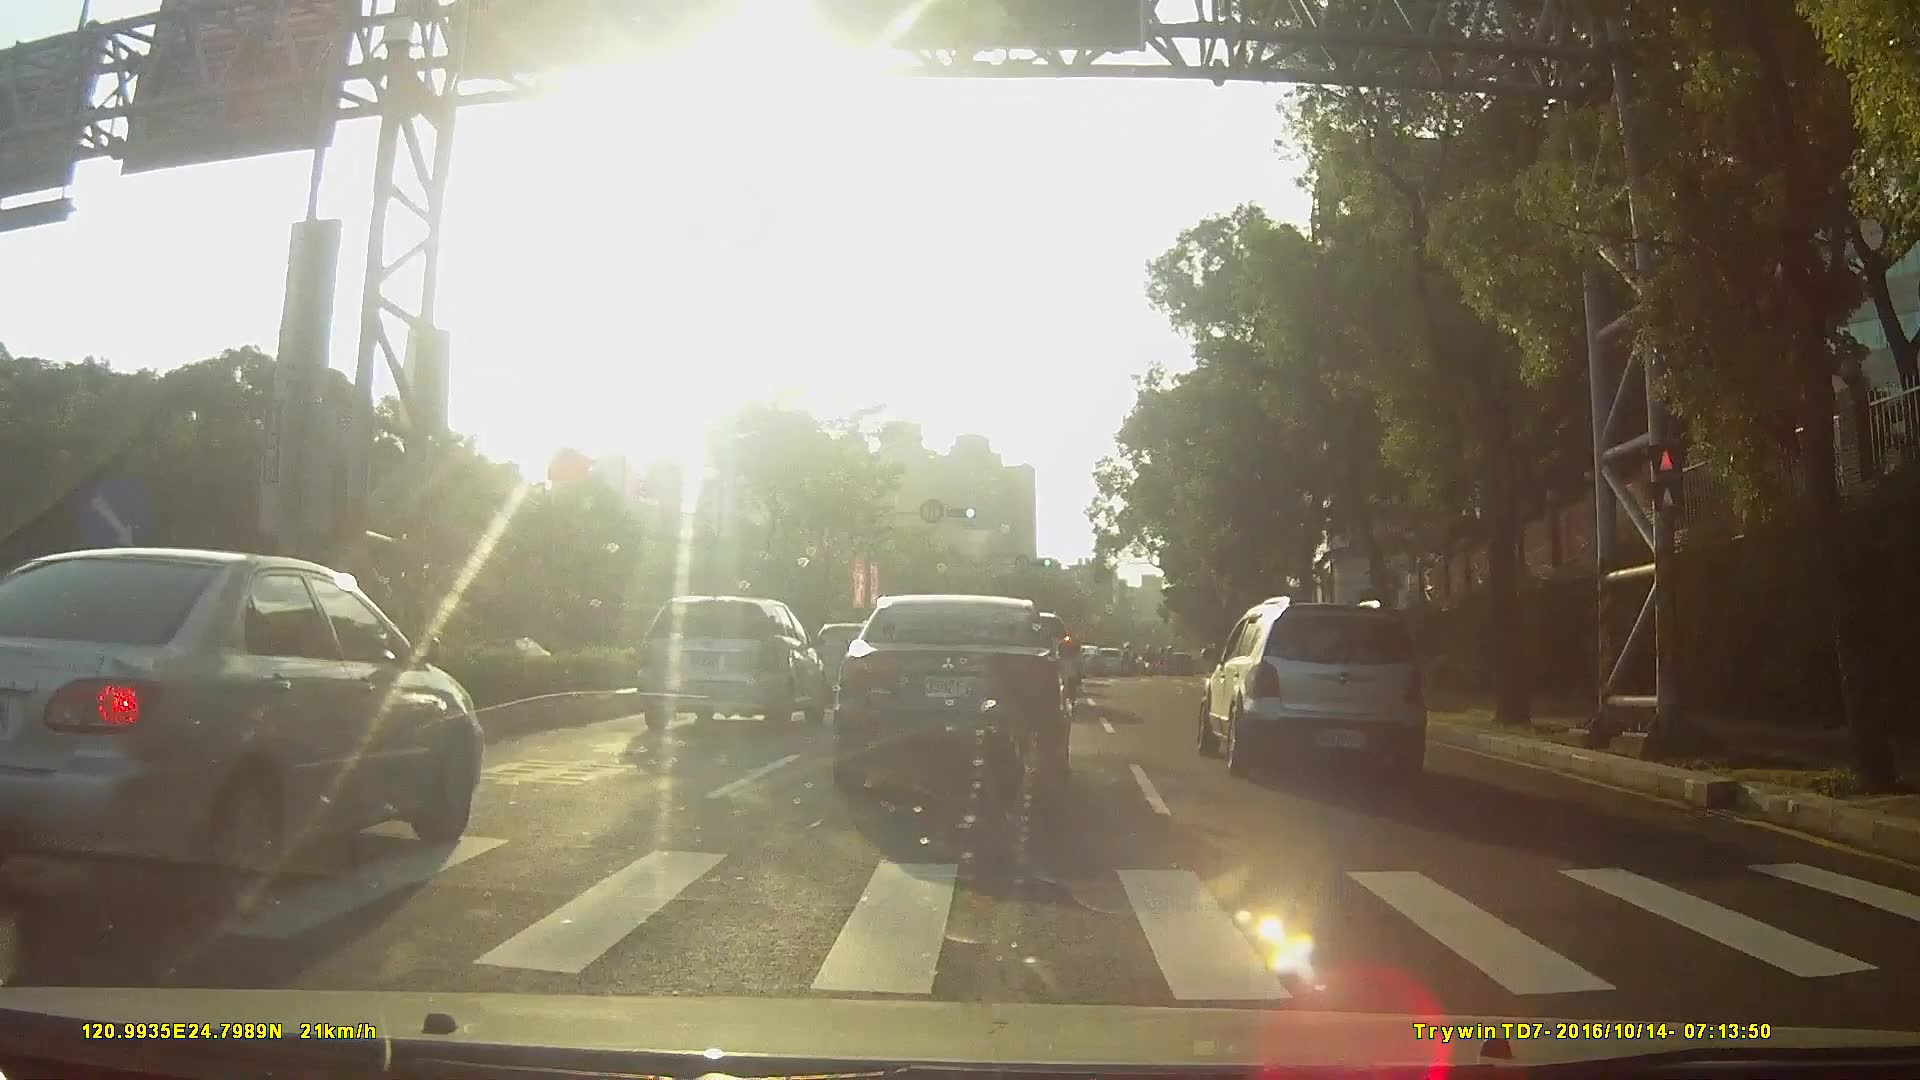vehicle: (1, 537, 491, 903), (836, 584, 1069, 796), (1188, 596, 1443, 789), (628, 588, 825, 725), (1065, 636, 1100, 671), (1087, 637, 1125, 669)
